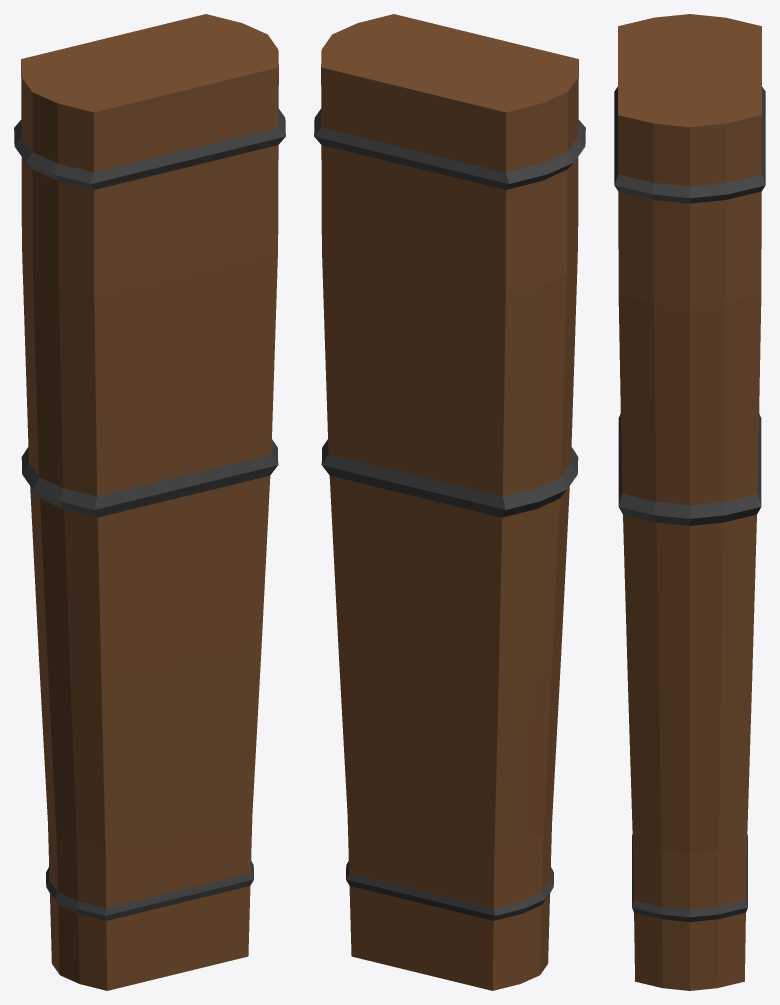
Rendered from ModularSwordKit_Griff02.fbx.
The picture shows the model from 3 angles, left to right: view 1: azimuth 30°, elevation 25°; view 2: azimuth 150°, elevation 25°; view 3: azimuth 270°, elevation 25°; orthographic projection.
Visible parts, largest first — view 1: Grip01.001; view 2: Grip01.001; view 3: Grip01.001.
Part boxes in pixels (<box>): Grip01.001: <box>14,14,285,990</box>; Grip01.001: <box>314,14,585,990</box>; Grip01.001: <box>614,14,765,990</box>.
Size of the model in its own units: 16.91 by 57.88 by 9.06.
